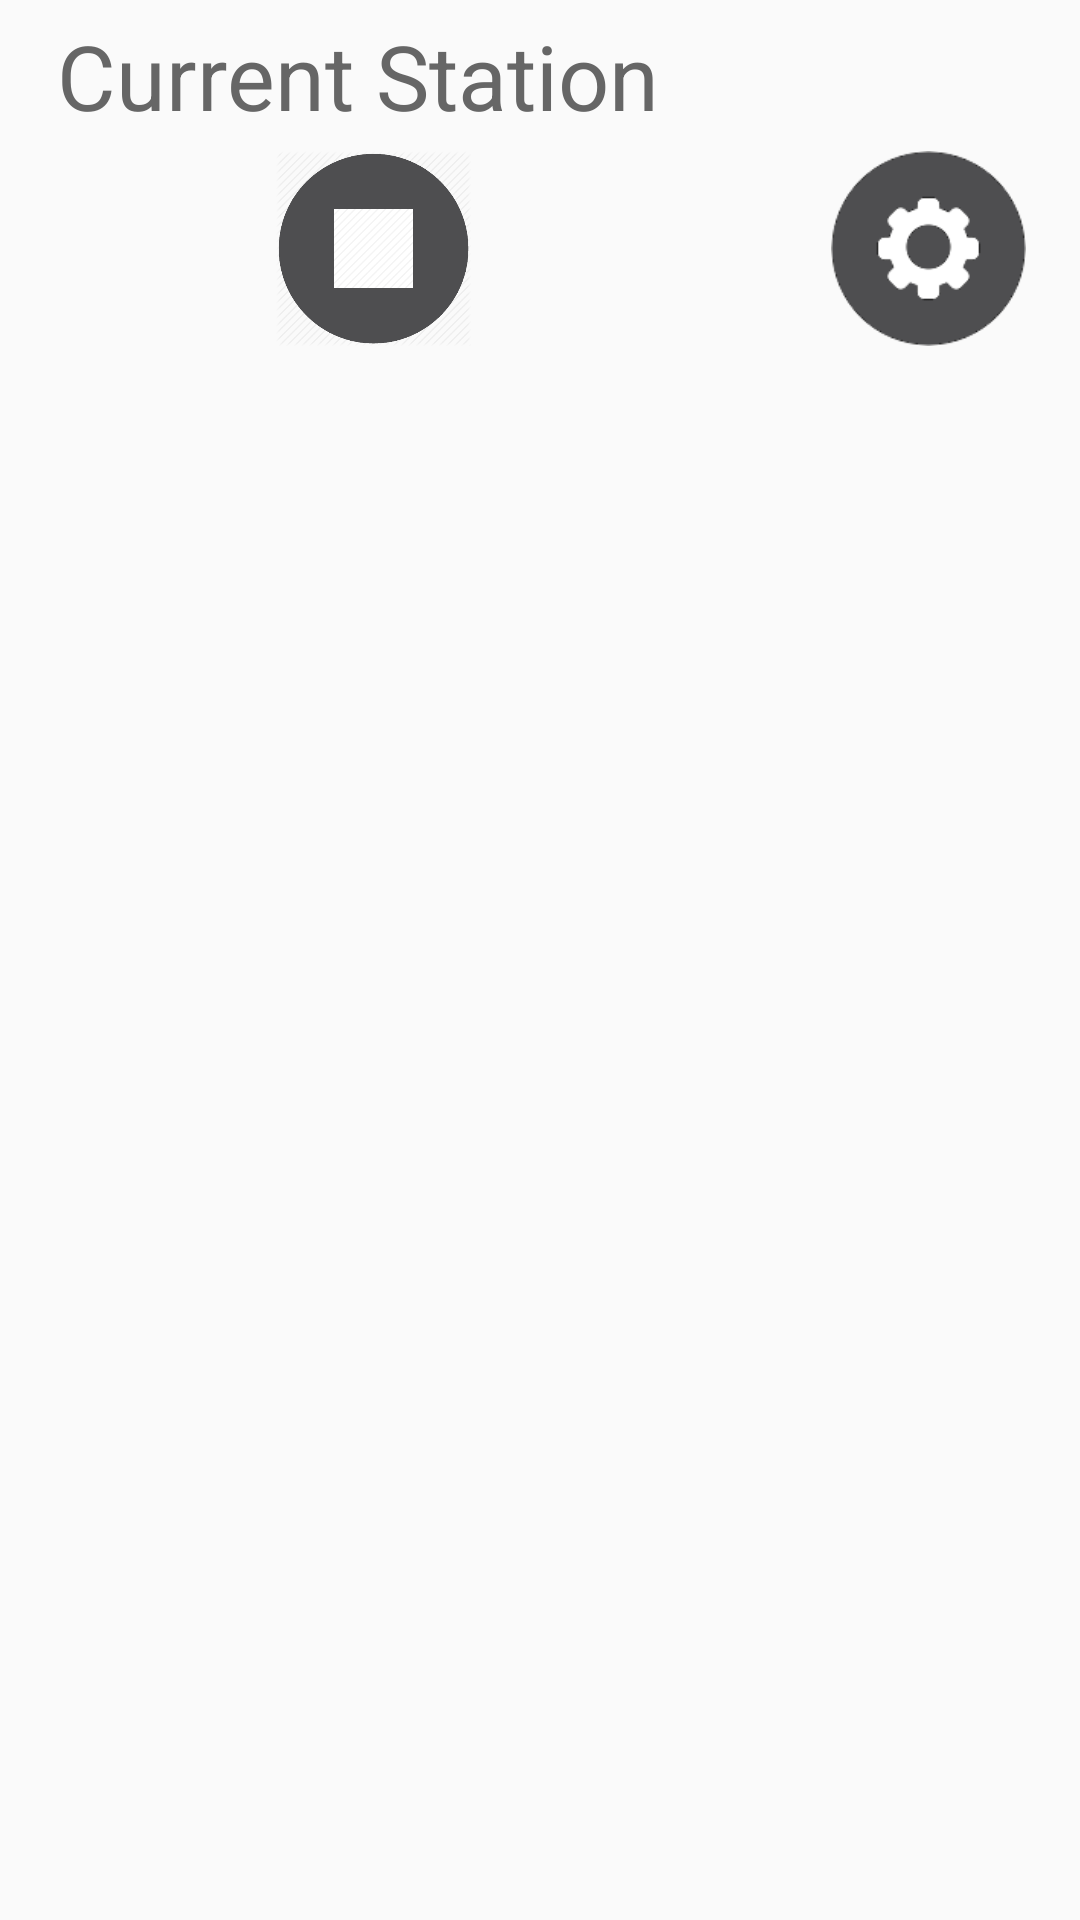

Point at icon controls on the screen. Image size 1080*1920, points as (x=x, y=y).
settings: (x=928, y=248)
stop: (x=374, y=249)
